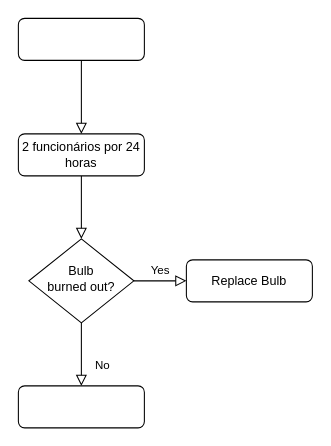
This 331x446 diagram has some shape labels left out. The shapes that lost their labels are listed below. From the top down, each one's centre as x and y in pixels, then its label:
At (x=80, y=38): "Entrada".
At (x=80, y=406): "Repair Lamp".
